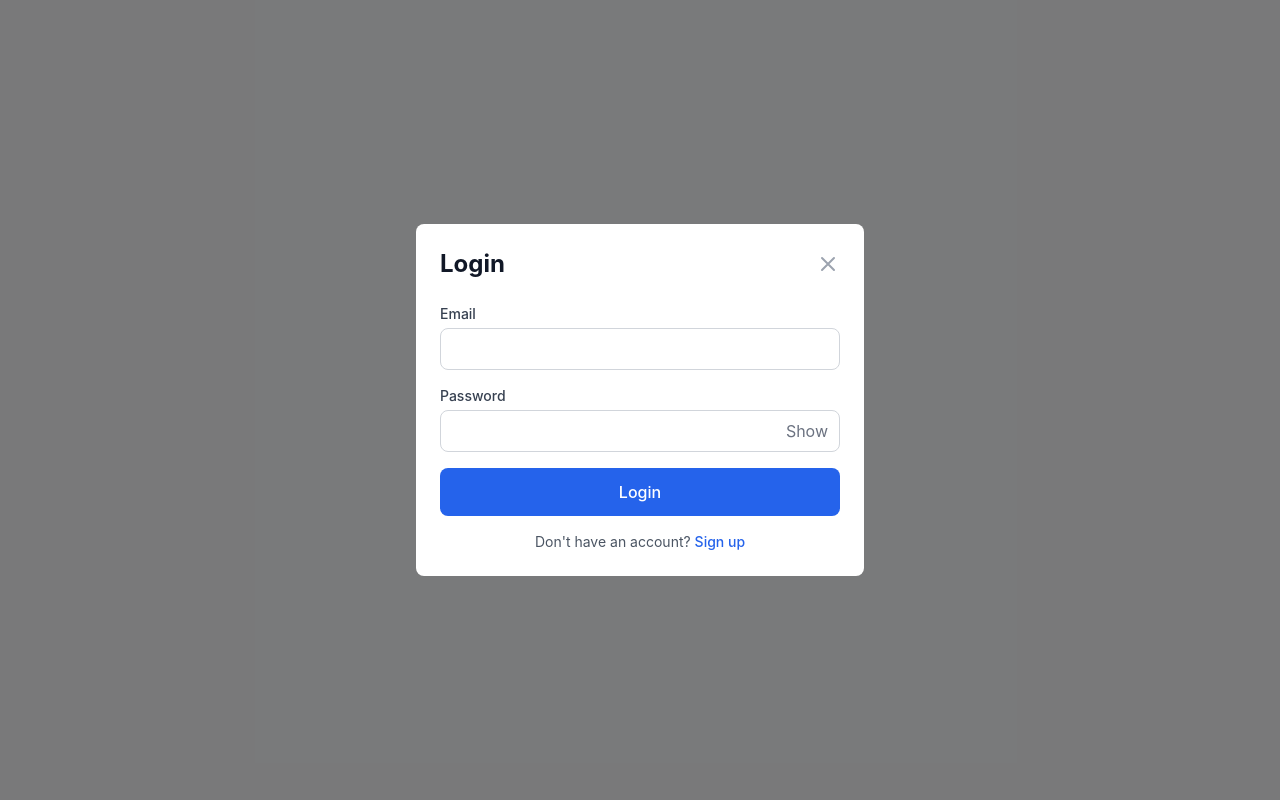
Test: LoginModal - Submission Integration › Error Handling › should display generic error for network failures
# Fill form
Type "test@example.com" into the field labelled "Email".
click(640, 349); type("test@example.com")  # box [440, 328, 840, 370]
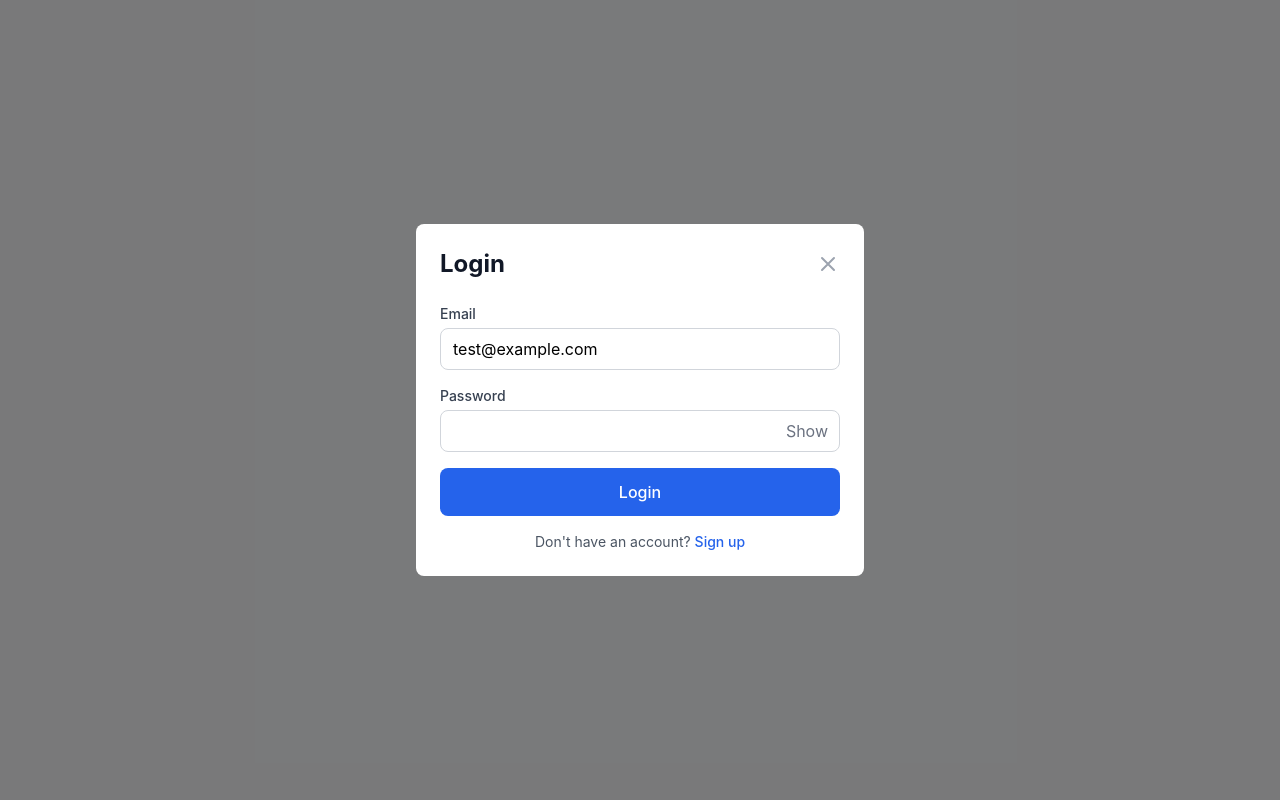
Type "password123" into the password field labelled "Password".
click(640, 431); type("password123")  # box [440, 410, 840, 452]
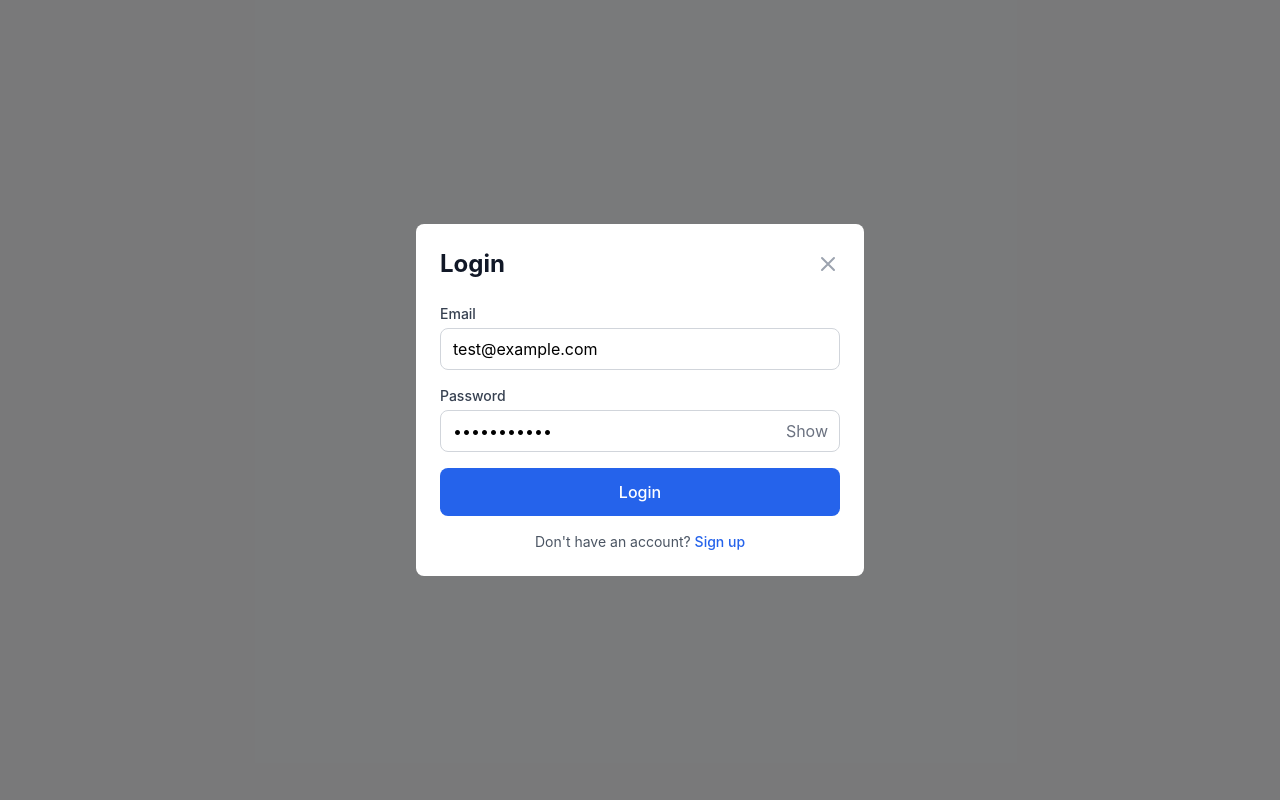
Click the button "Login".
click(640, 492)  # box [440, 468, 840, 516]
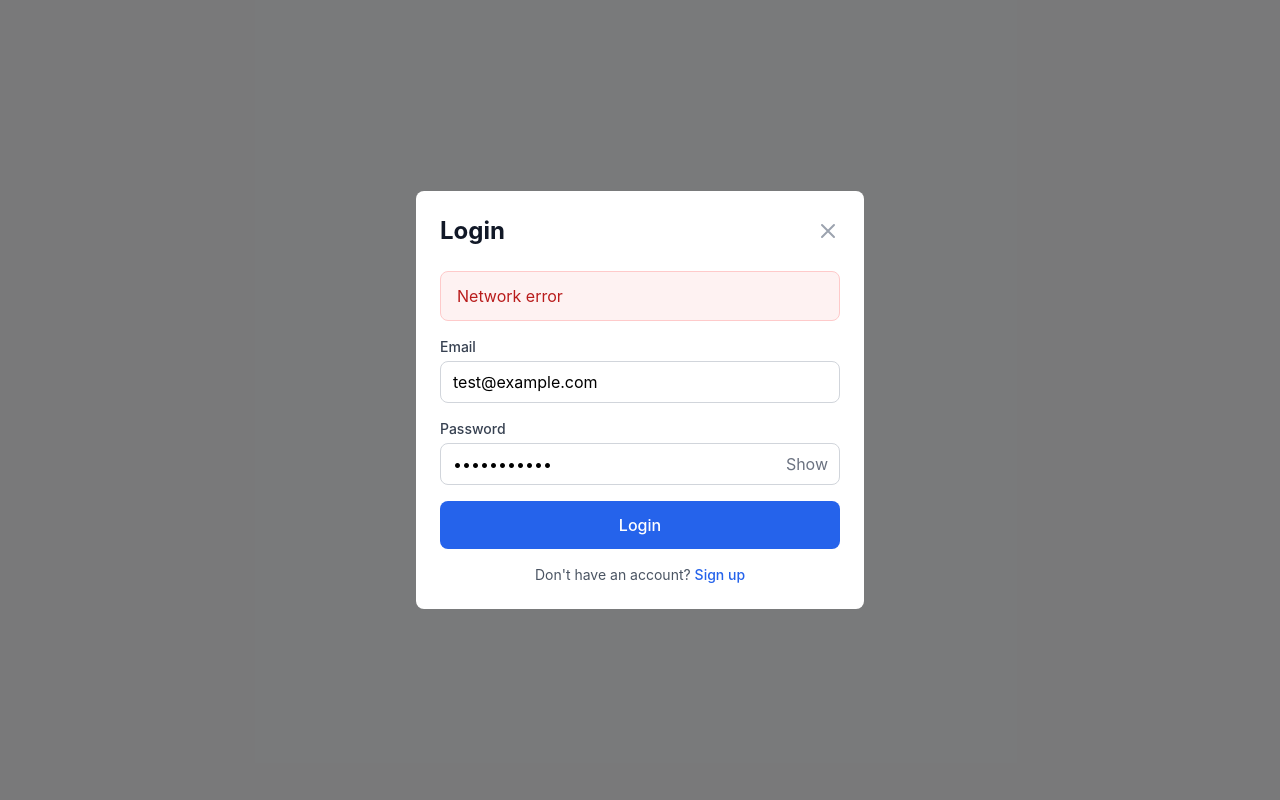
Check: the text "Network error" is shown, box [440, 271, 840, 321]
